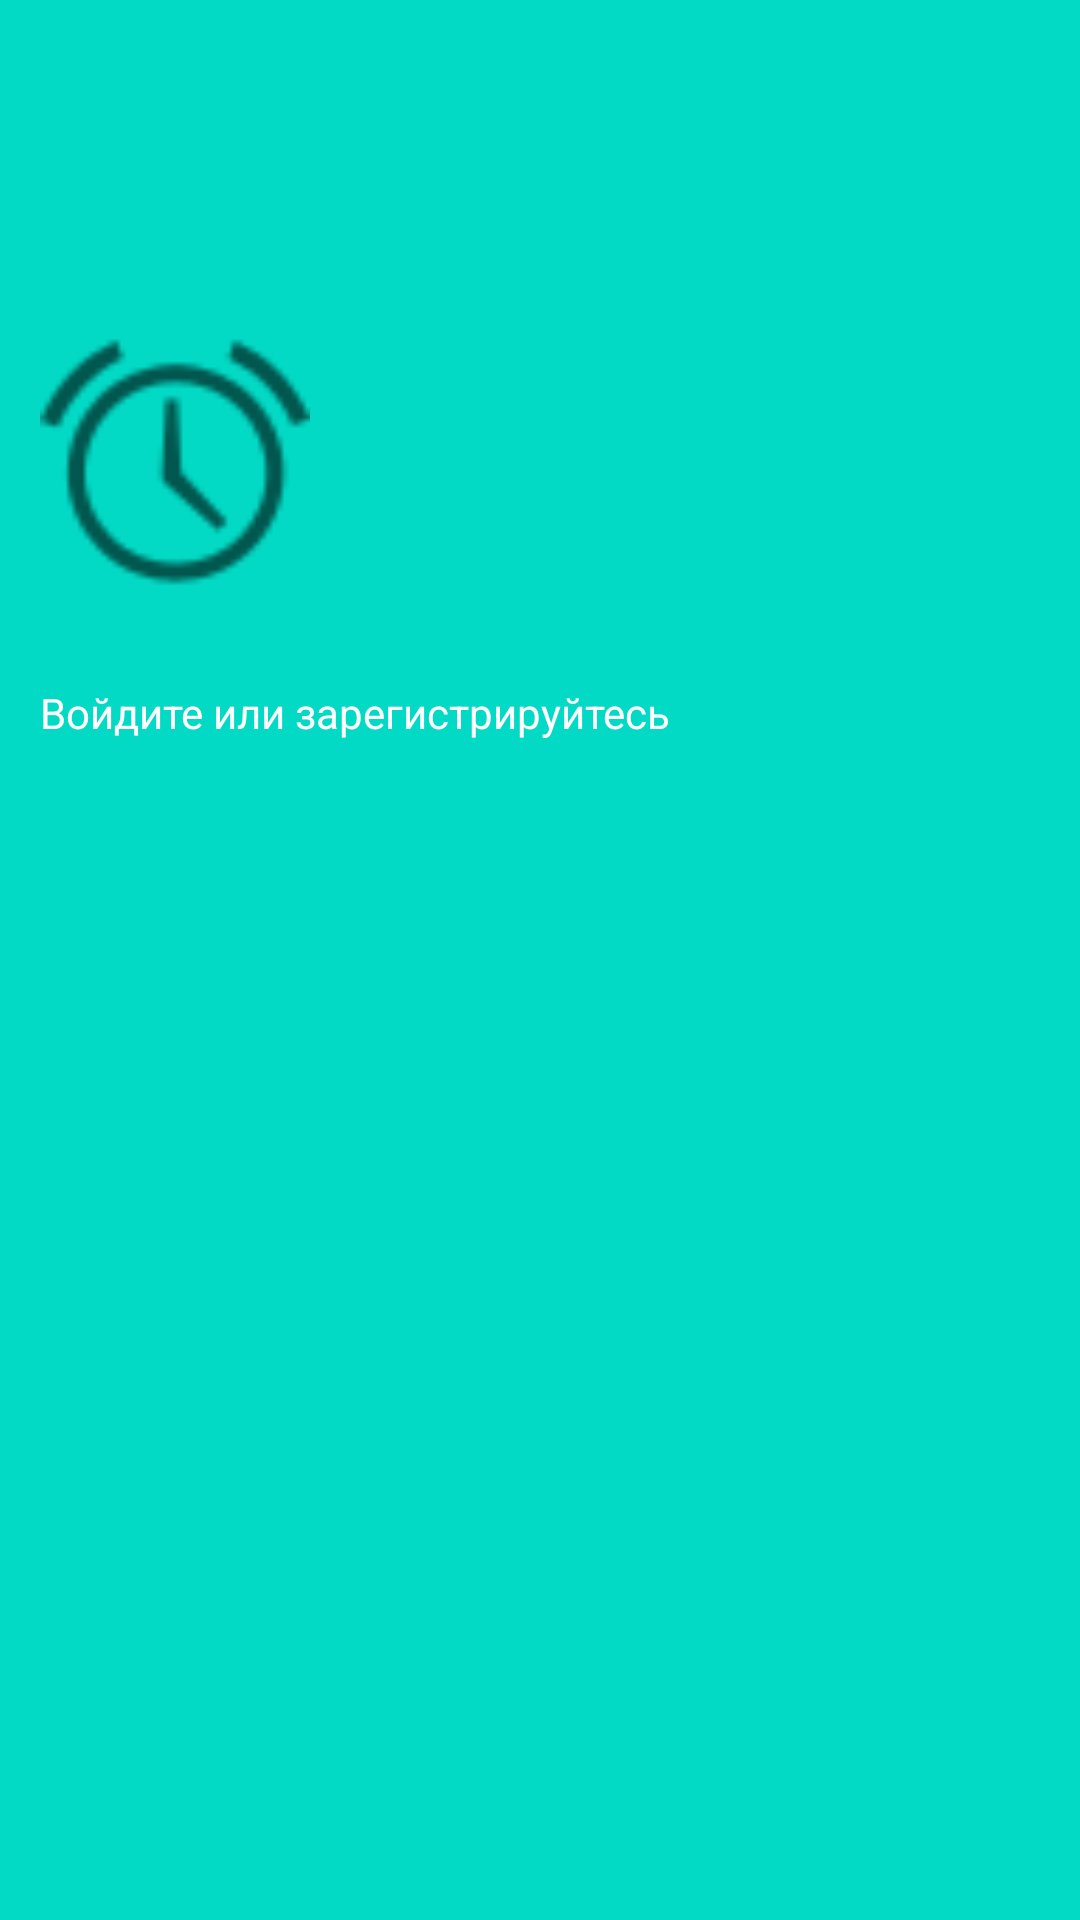

Locate icon controls on the screen. Image size 1080w x 1920h, boxes as rect(x1, y1, x2, y2).
lock idle alarm: rect(40, 340, 310, 584)
